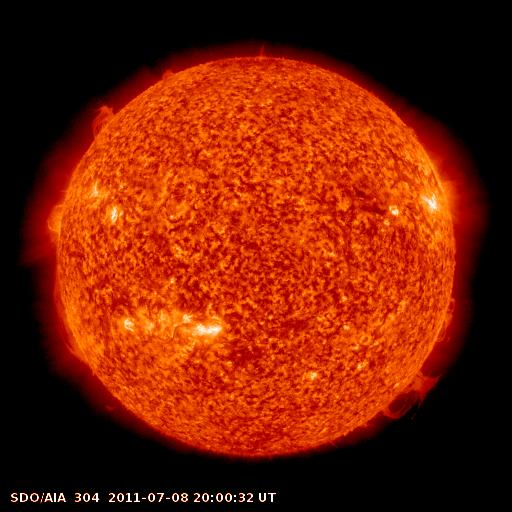prominence: (46, 261, 94, 368), (371, 363, 448, 423), (424, 286, 461, 351), (88, 96, 118, 143), (154, 56, 181, 92)
